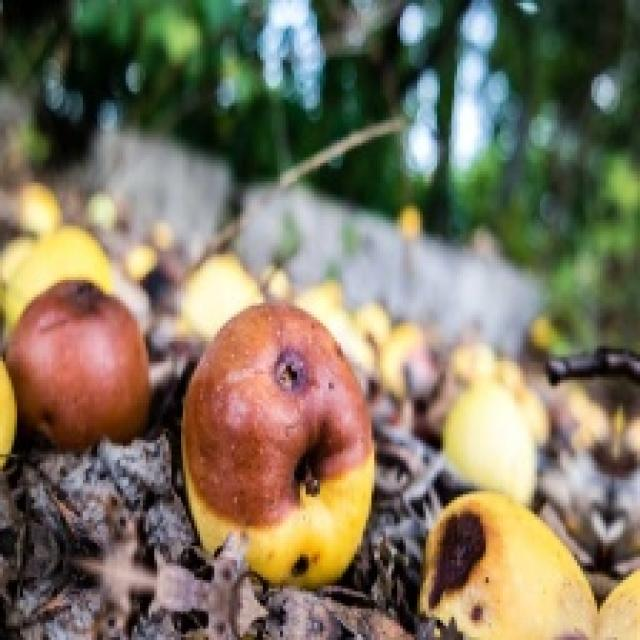rotten_apple: (188, 307, 374, 580), (9, 282, 148, 439), (429, 494, 552, 640)
